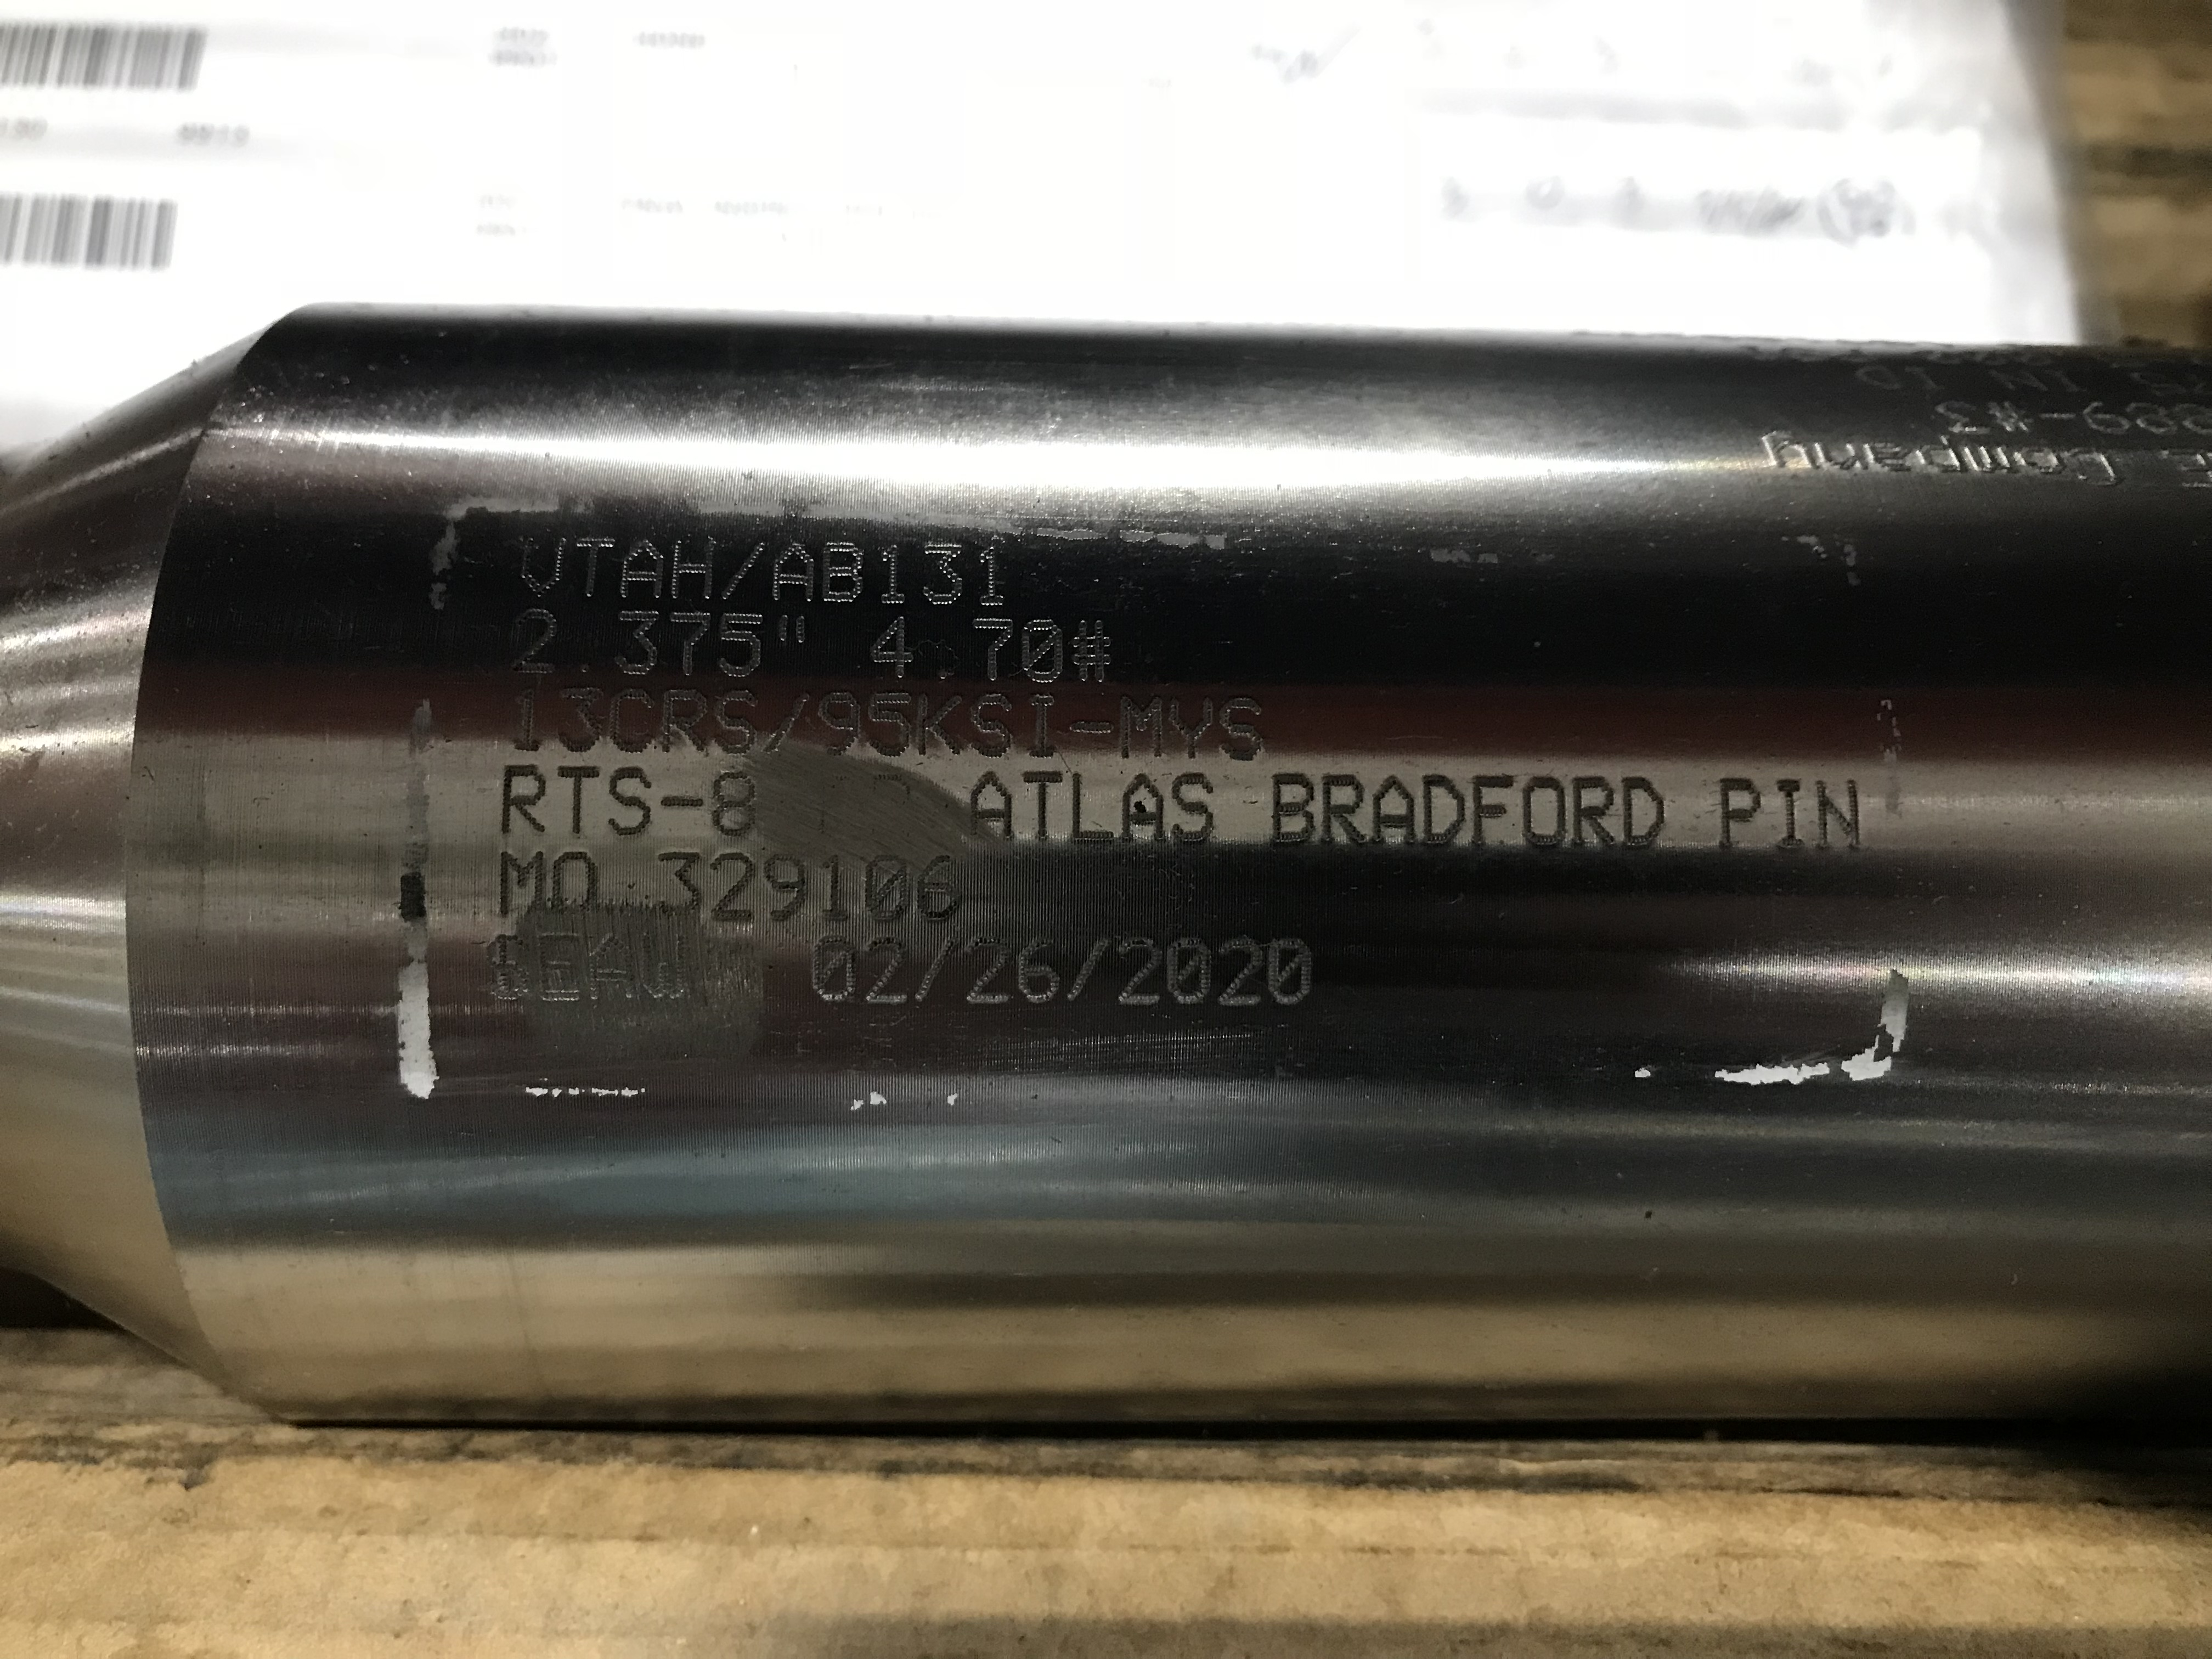character: (1810, 774, 1874, 854), (1115, 765, 1172, 854), (702, 847, 759, 931), (1463, 767, 1519, 852), (960, 929, 1015, 1014), (1160, 687, 1217, 769), (1420, 765, 1470, 857), (603, 758, 660, 838), (1315, 769, 1367, 856), (857, 931, 911, 1014), (1214, 690, 1271, 769), (860, 847, 916, 927), (634, 925, 690, 1006), (1566, 769, 1618, 854), (479, 932, 535, 1011), (862, 610, 923, 681), (498, 763, 552, 843), (1371, 769, 1421, 854), (1710, 772, 1761, 857), (1111, 692, 1169, 767), (550, 756, 603, 838), (1519, 769, 1568, 856), (665, 528, 719, 606), (911, 847, 961, 931), (1261, 932, 1313, 1012), (965, 767, 1019, 843), (514, 528, 571, 599), (495, 847, 552, 918), (707, 767, 763, 840), (535, 925, 583, 1009), (1169, 765, 1219, 845), (1264, 769, 1315, 849), (806, 929, 857, 1009), (1212, 932, 1263, 1012), (916, 535, 970, 610), (549, 683, 603, 758), (1014, 613, 1066, 690), (604, 681, 657, 758), (660, 680, 712, 756), (712, 680, 761, 762), (1066, 765, 1115, 847), (761, 849, 810, 931), (568, 528, 618, 606), (862, 685, 913, 763), (1017, 765, 1068, 843), (655, 843, 705, 922), (505, 606, 559, 680), (1622, 769, 1669, 852), (587, 929, 636, 1009), (610, 603, 660, 680), (1012, 932, 1062, 1009), (718, 605, 765, 687), (812, 688, 864, 762), (665, 606, 716, 681), (1115, 932, 1162, 1012), (620, 528, 669, 605), (817, 535, 864, 612), (552, 847, 603, 917), (970, 692, 1019, 763), (970, 610, 1015, 687), (1167, 932, 1212, 1009), (907, 692, 960, 758), (1770, 775, 1813, 854), (1069, 612, 1115, 687), (914, 936, 958, 1012), (723, 538, 766, 612), (1069, 934, 1111, 1009), (772, 538, 817, 606), (503, 685, 545, 758), (869, 537, 911, 608), (766, 692, 812, 756), (1024, 692, 1062, 765), (813, 847, 850, 924), (974, 537, 1010, 606), (1062, 713, 1115, 742), (660, 791, 704, 816)
